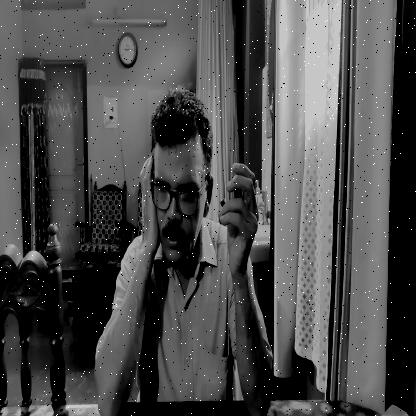Distracted: (148, 90, 214, 274)
